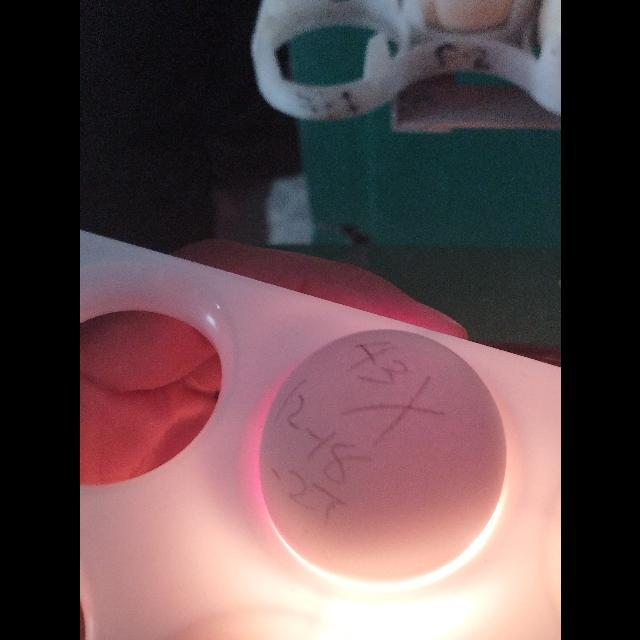Fertile: (254, 326, 512, 594)
